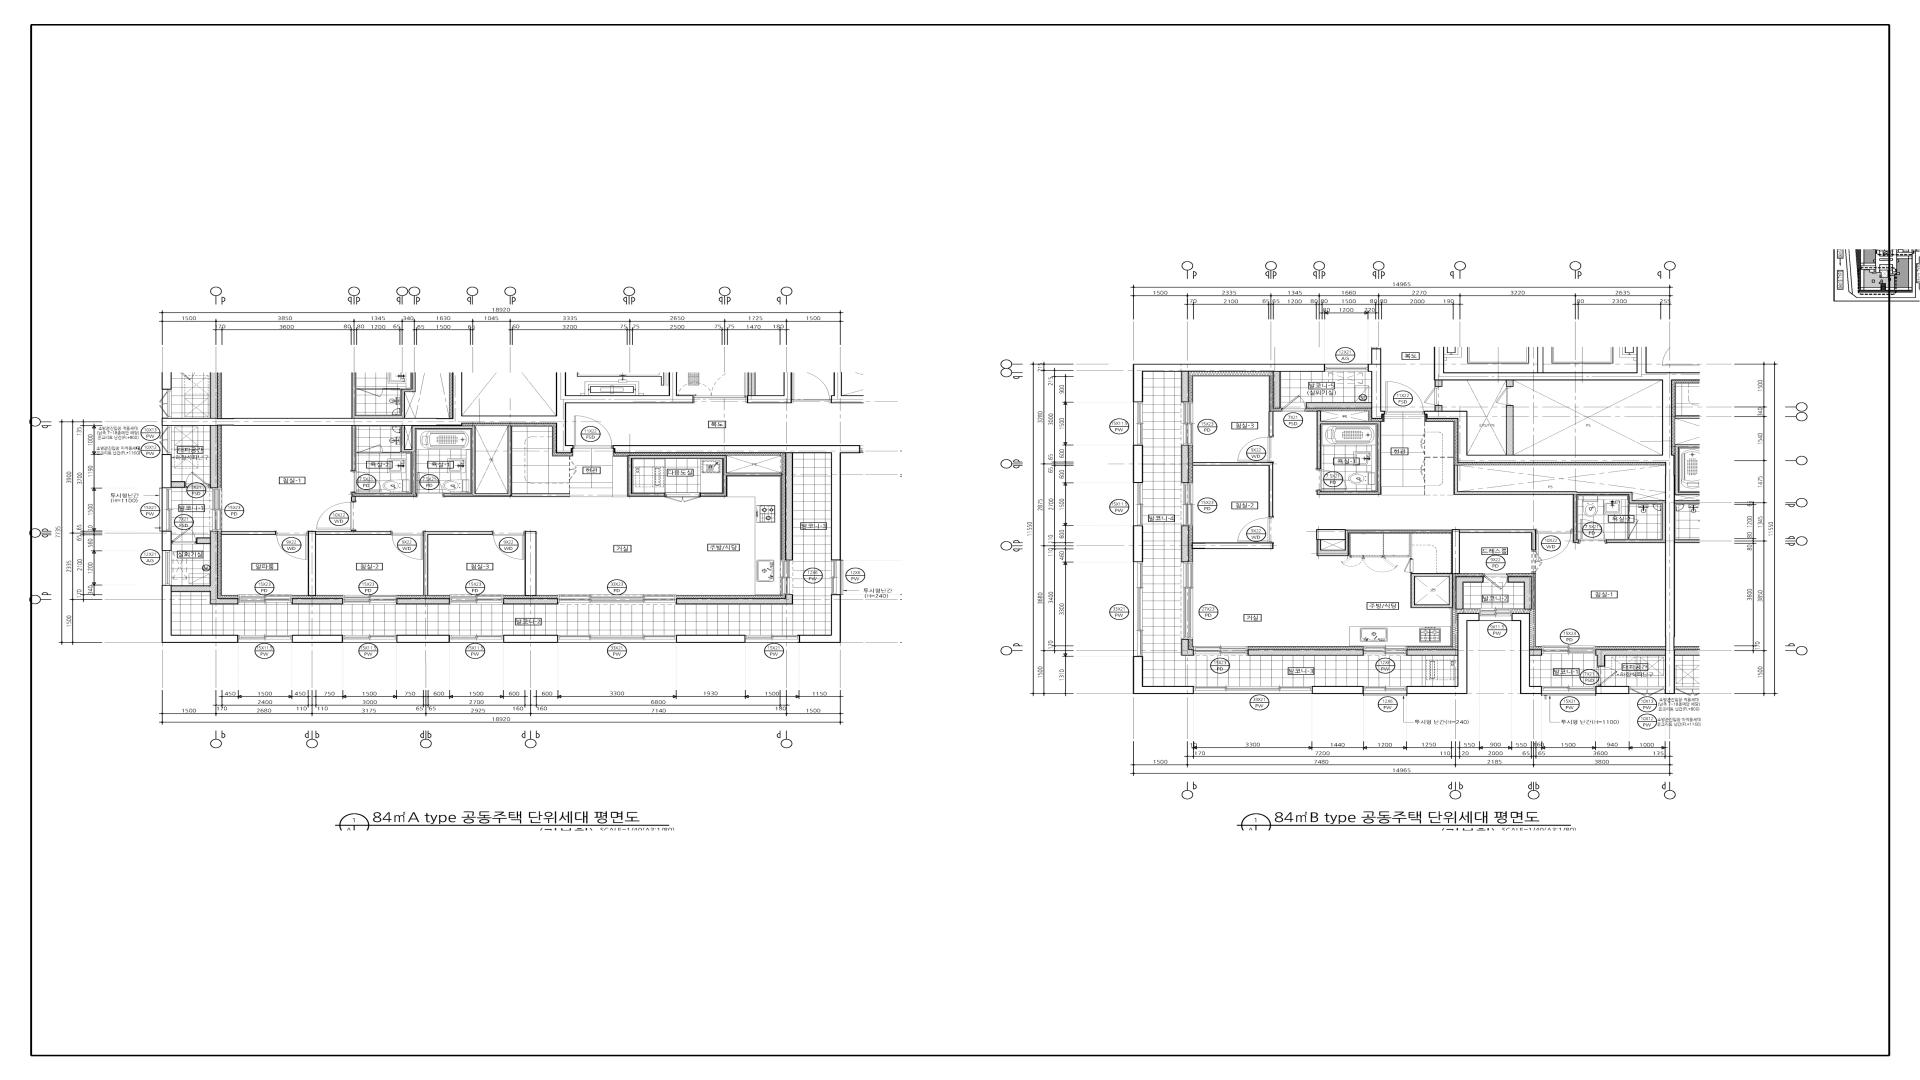door: (574, 415, 616, 448), (1385, 381, 1424, 414), (316, 501, 355, 531), (1536, 531, 1573, 562), (276, 531, 309, 560), (1238, 436, 1274, 463), (1237, 517, 1274, 542), (392, 531, 423, 560), (493, 531, 525, 560), (352, 471, 382, 493), (1316, 469, 1348, 491), (417, 472, 443, 497), (1580, 520, 1606, 543), (1627, 504, 1640, 539), (1280, 394, 1305, 411), (171, 527, 196, 545), (1597, 666, 1618, 686), (1484, 574, 1507, 591), (186, 471, 210, 488), (666, 492, 700, 502), (1495, 386, 1511, 405), (356, 443, 384, 454), (1531, 550, 1543, 574), (1424, 388, 1439, 405), (1404, 558, 1414, 574)
wall: (1424, 347, 1675, 694), (162, 372, 694, 452), (613, 446, 861, 560), (1455, 465, 1665, 543), (352, 426, 512, 497), (1133, 364, 1325, 402), (629, 455, 782, 497), (1407, 613, 1480, 694), (309, 531, 392, 596), (1317, 411, 1381, 495), (170, 530, 237, 604), (423, 531, 493, 596), (162, 585, 239, 644), (1193, 463, 1274, 517), (1317, 530, 1452, 558), (1511, 613, 1542, 694), (1133, 657, 1193, 694), (799, 595, 840, 642), (1460, 530, 1536, 550), (746, 372, 793, 404), (1411, 574, 1453, 608), (1367, 348, 1385, 419), (1596, 650, 1665, 666), (676, 595, 793, 604), (831, 372, 864, 404), (1415, 576, 1449, 604), (1456, 576, 1484, 609), (1507, 576, 1532, 609), (525, 531, 537, 596), (786, 454, 793, 560), (676, 634, 745, 644), (1247, 650, 1364, 655), (210, 426, 218, 488), (1191, 543, 1273, 549), (504, 634, 558, 642), (397, 634, 450, 642), (1312, 686, 1364, 694), (291, 634, 343, 642), (1133, 446, 1143, 483), (1133, 526, 1143, 562), (1452, 529, 1460, 574), (1307, 402, 1371, 407), (1507, 405, 1514, 455), (1317, 529, 1345, 541), (162, 455, 171, 488), (504, 599, 558, 604), (1182, 526, 1189, 562), (1273, 372, 1280, 407), (397, 599, 450, 604), (293, 599, 343, 604), (1407, 650, 1457, 655), (1596, 686, 1629, 694), (1182, 446, 1188, 483), (512, 493, 570, 497), (222, 531, 276, 535), (1182, 372, 1188, 402), (1182, 640, 1193, 655), (162, 531, 171, 551), (352, 426, 356, 471), (1269, 411, 1274, 436), (171, 481, 185, 488), (1530, 650, 1542, 655), (1435, 380, 1443, 386), (1435, 405, 1443, 411), (1506, 381, 1514, 386), (352, 497, 356, 501)
window: (1133, 562, 1143, 655), (558, 595, 676, 603), (558, 636, 676, 644), (1195, 686, 1312, 694), (1182, 562, 1193, 638), (1542, 686, 1596, 696), (1182, 483, 1193, 526), (160, 488, 171, 531), (1182, 402, 1193, 446), (1193, 646, 1247, 655), (831, 559, 844, 595), (343, 634, 398, 642), (237, 595, 293, 603), (1542, 646, 1596, 654), (450, 595, 504, 603), (239, 634, 293, 642), (343, 595, 397, 603), (1480, 608, 1511, 621), (1364, 687, 1407, 696), (1364, 646, 1407, 655), (212, 488, 222, 531), (1134, 483, 1143, 526), (1133, 402, 1142, 444), (1630, 686, 1664, 696), (450, 636, 504, 642), (745, 636, 799, 642), (160, 426, 171, 455), (1325, 364, 1367, 372), (162, 551, 171, 585), (781, 560, 790, 595)
